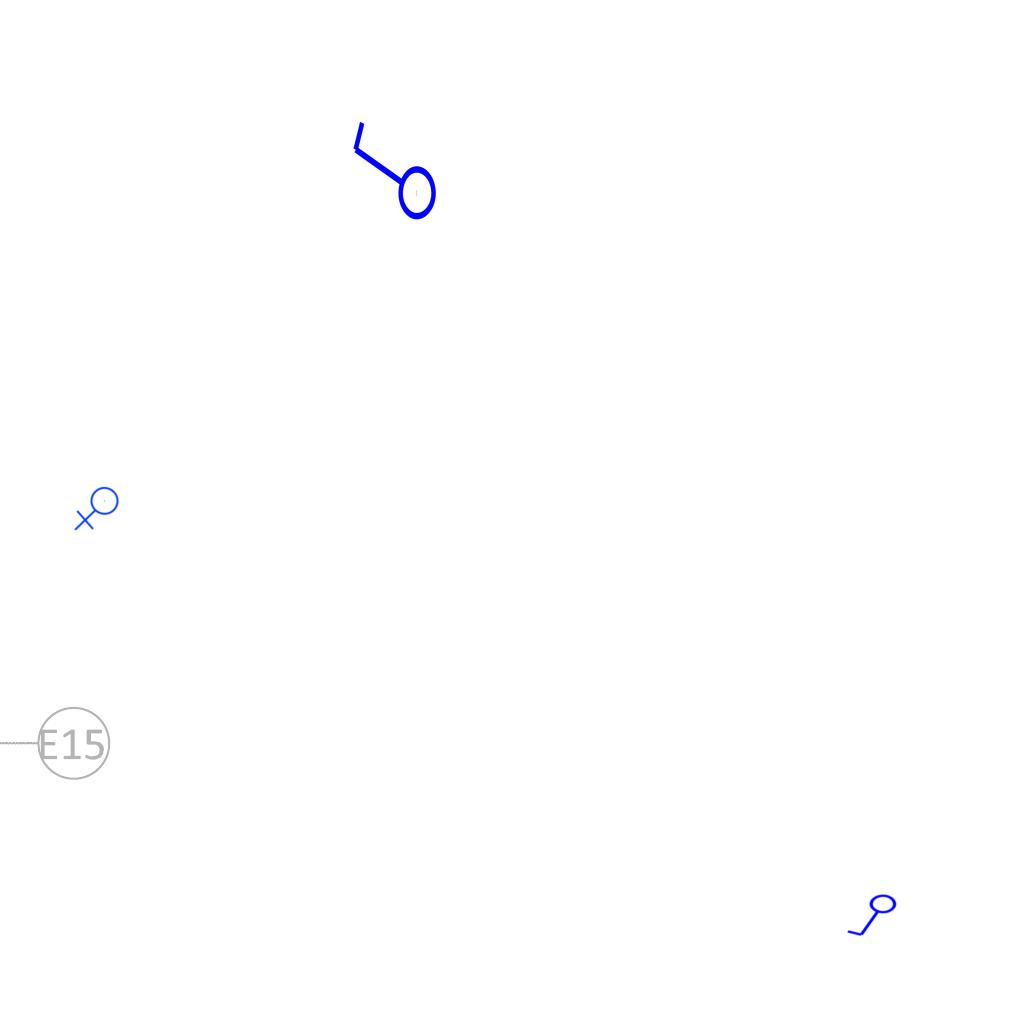Ausschalter: (343, 119, 439, 231), (846, 893, 902, 941)
Elektroanschluss_allgemein_230V_Geraeteanschlussdose_230V: (74, 486, 123, 533)
